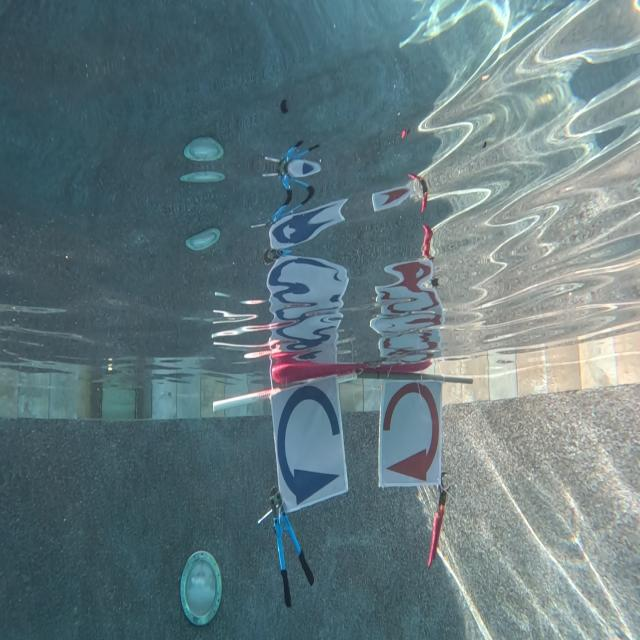blue_side: (269, 382, 350, 503)
red_side: (380, 379, 440, 488)
